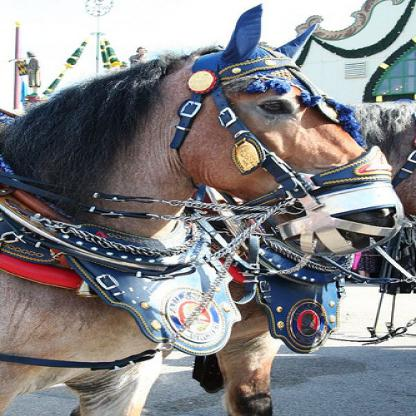horse: (0, 1, 404, 415), (187, 98, 415, 416)
